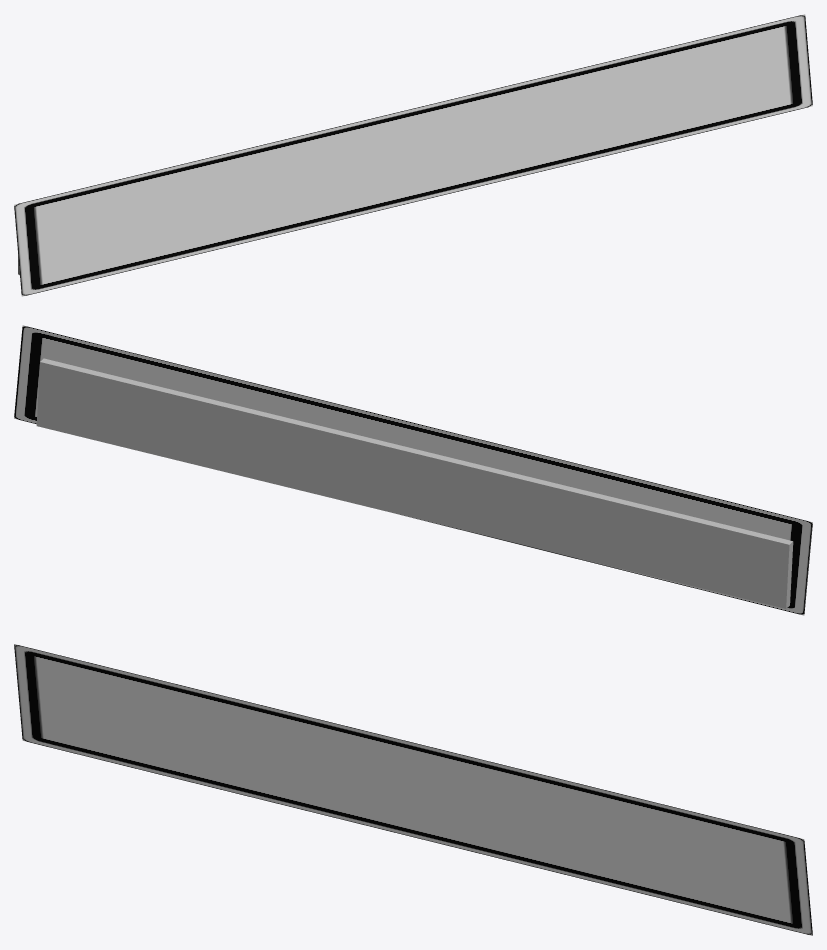
Rendered from s242aSign.obj.
The picture shows the model from 3 angles, top to bottom: view 1: azimuth 30°, elevation 25°; view 2: azimuth 150°, elevation 25°; view 3: azimuth 330°, elevation 25°; orthographic projection.
Parts seen in each view (by area): view 1: Plane; view 2: Cube.002, Plane; view 3: Plane.
Boxes of the visible parts, x1,y1,x2,y2 form: Plane: [14, 14, 812, 296]; Cube.002: [36, 358, 793, 608]; Plane: [14, 325, 812, 615]; Plane: [14, 644, 812, 935].
Bounding box in the file's own units: 27.45 × 3.13 × 1.01.
